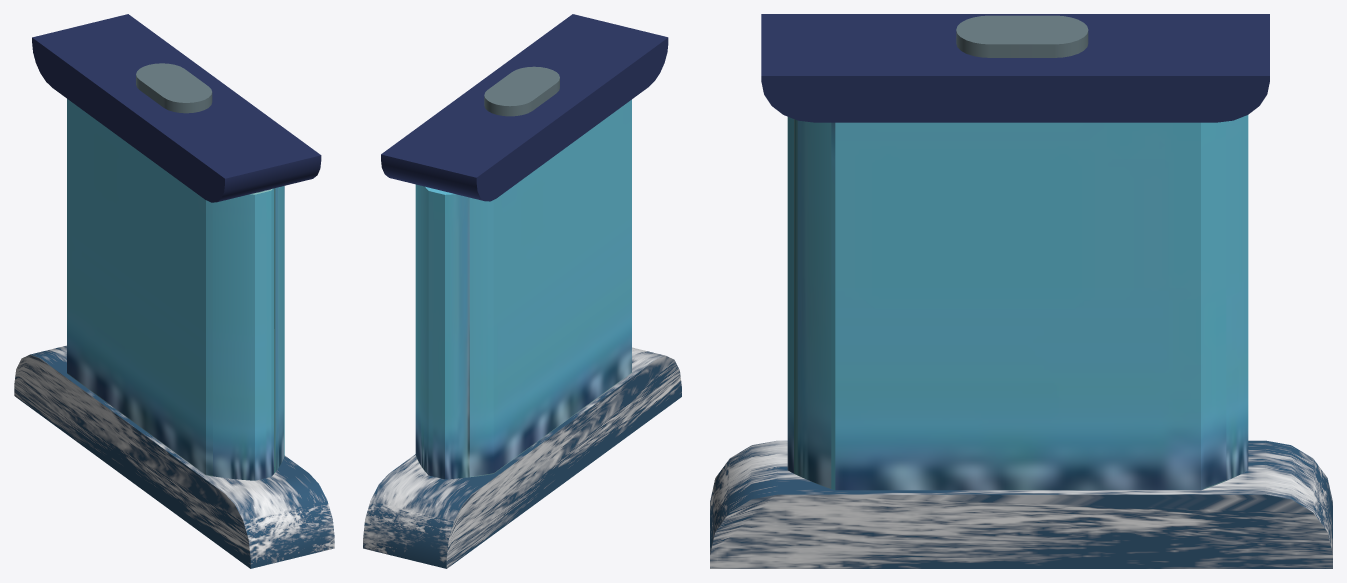
Rendered from Tanque.obj.
The picture shows the model from 3 angles, left to right: view 1: azimuth 30°, elevation 25°; view 2: azimuth 150°, elevation 25°; view 3: azimuth 270°, elevation 25°; orthographic projection. The views are drawn at different scales.
Parts seen in each view (by area): view 1: pCube7, pCube8, pCube6, pCube9; view 2: pCube7, pCube8, pCube6, pCube9; view 3: pCube7, pCube6, pCube8, pCube9.
Part boxes in pixels (x1,y1,x2,y2): pCube7: (67, 99, 284, 480); pCube8: (32, 14, 321, 202); pCube6: (14, 345, 334, 568); pCube9: (136, 63, 212, 113); pCube7: (415, 99, 631, 479); pCube8: (381, 14, 668, 201); pCube6: (363, 347, 681, 568); pCube9: (484, 66, 559, 116); pCube7: (787, 115, 1248, 490); pCube6: (710, 440, 1332, 568); pCube8: (761, 14, 1269, 122); pCube9: (956, 15, 1088, 57).
Size of the model in its own units: 0.352 by 1.36 by 1.5.
Materials: 4 (4 with a texture image).
